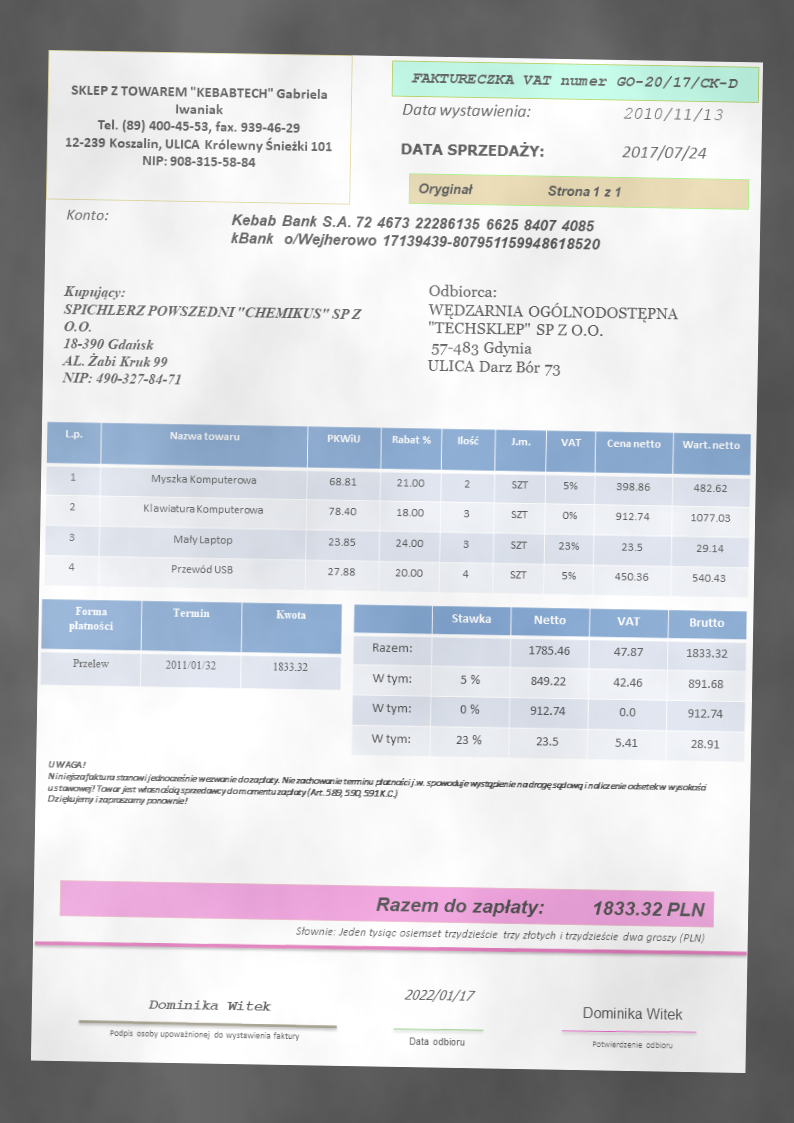Table: (41, 417, 753, 599), (349, 603, 748, 763), (39, 597, 341, 691)
TextBox: (43, 756, 708, 818), (60, 282, 366, 394), (424, 278, 683, 385), (63, 77, 338, 175), (227, 208, 604, 257), (371, 892, 709, 922), (293, 922, 709, 945), (407, 68, 745, 91), (414, 179, 624, 203), (106, 1026, 302, 1044), (398, 137, 547, 160), (400, 98, 532, 121), (144, 996, 275, 1015), (580, 1002, 687, 1023), (623, 102, 725, 123), (619, 141, 707, 164), (403, 982, 481, 1006), (590, 1036, 675, 1055), (62, 203, 113, 227), (404, 1034, 467, 1050)
